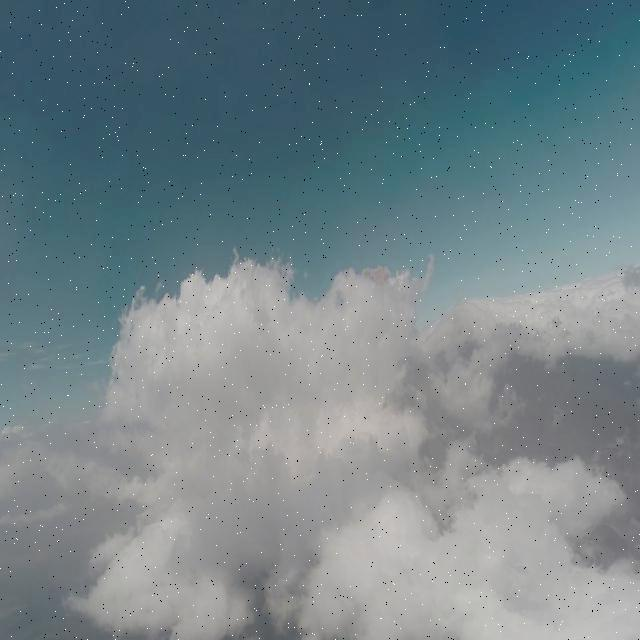Plume: (360, 260, 391, 286)
